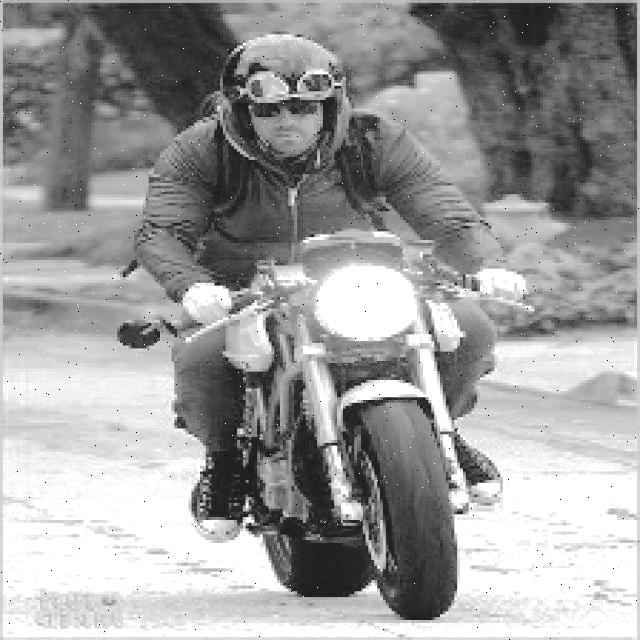Bike: (207, 253, 501, 628)
